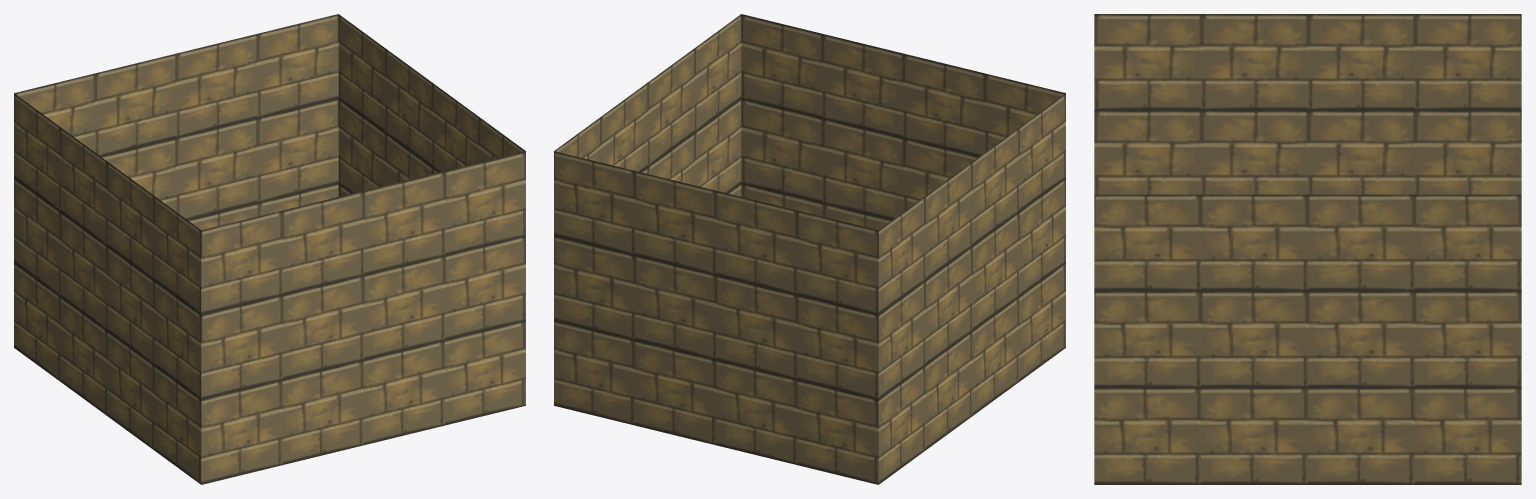
Rendered from pillar1.fbx.
The picture shows the model from 3 angles, left to right: view 1: azimuth 30°, elevation 25°; view 2: azimuth 150°, elevation 25°; view 3: azimuth 270°, elevation 25°; orthographic projection. The views are drawn at different scales.
Visible parts, largest first — view 1: Pillar1; view 2: Pillar1; view 3: Pillar1.
Boxes of the visible parts, x1,y1,x2,y2 form: Pillar1: (14, 14, 525, 484); Pillar1: (554, 14, 1065, 484); Pillar1: (1094, 14, 1521, 484).
Size of the model in its own units: 366 by 274 by 366.
Materials: 1 (1 with a texture image).
